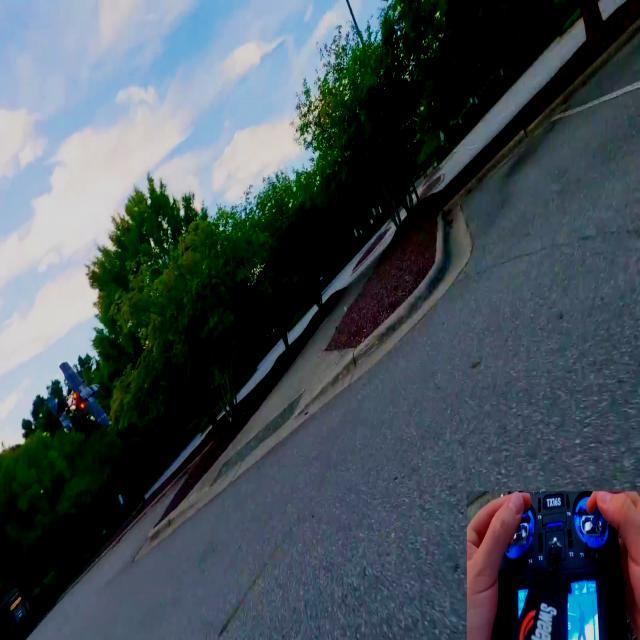iha: (13, 386, 16, 408)
